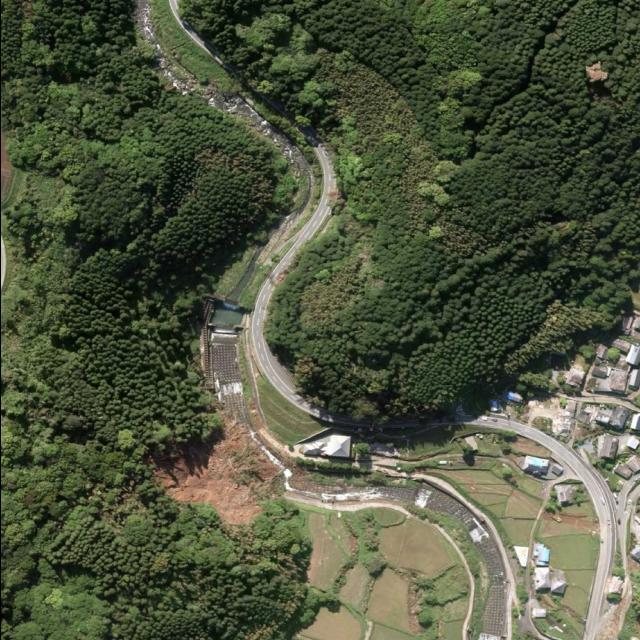landslide: (153, 419, 283, 526)
